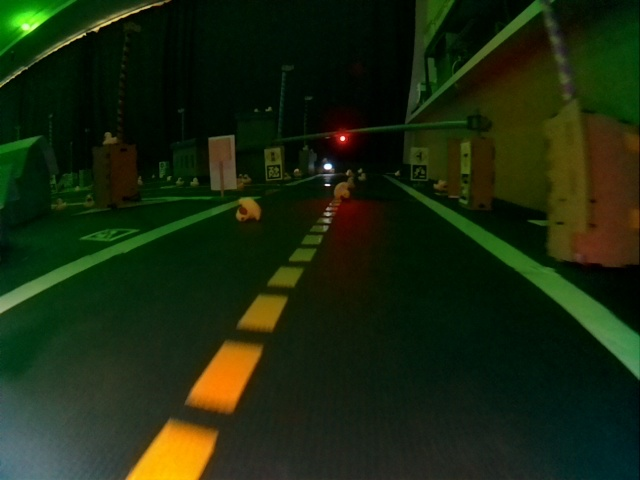Duckie: (235, 197, 260, 221), (333, 181, 348, 197), (103, 131, 117, 143), (54, 199, 67, 209), (83, 194, 93, 207), (436, 179, 446, 189), (243, 174, 253, 183), (190, 177, 198, 186), (359, 173, 366, 182), (177, 177, 184, 185)
Intersection sign: (460, 145, 469, 171), (412, 148, 427, 163)
QR code: (458, 175, 469, 203), (413, 165, 427, 179), (268, 164, 281, 179)
Signal sign: (265, 150, 280, 163)
Traffic light: (337, 131, 347, 143)
